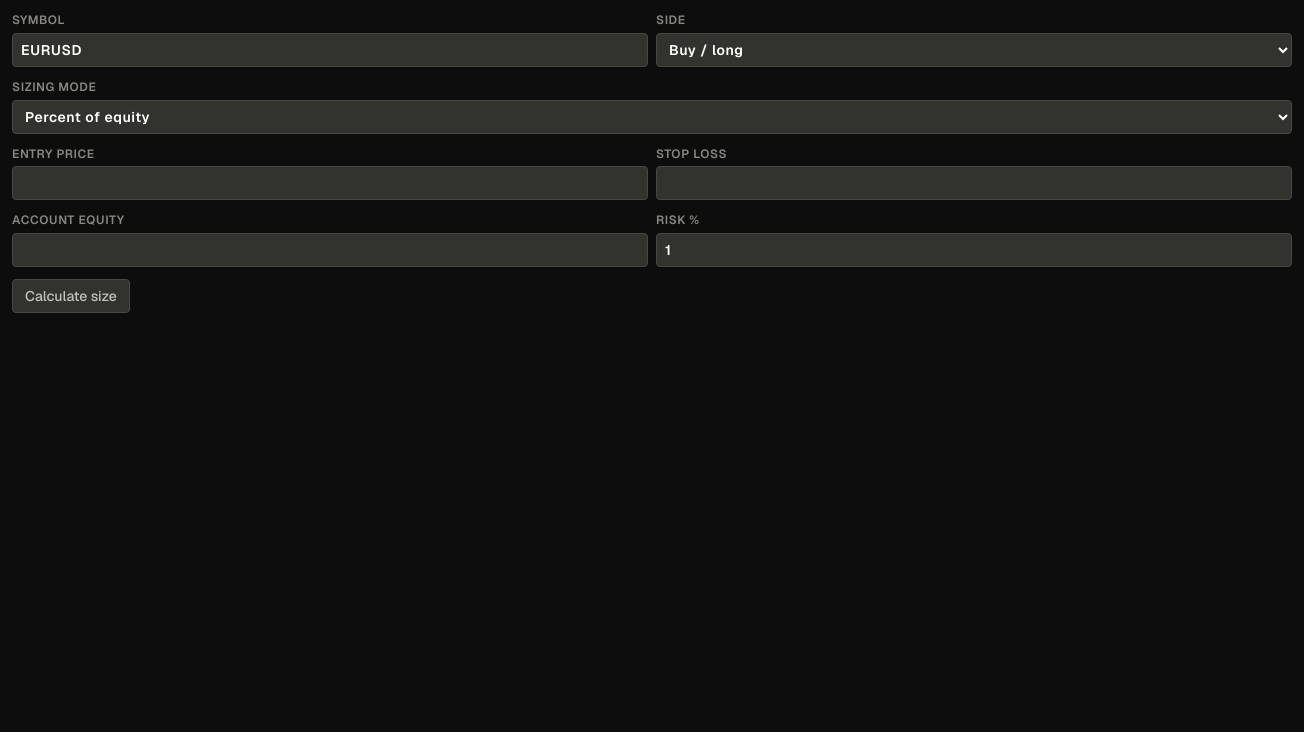
Test case: SizingCalculator › sends only the fields the chosen mode uses
Type "1.1" into the field labelled "Entry price".
click(330, 183); type("1.1")  # box [12,166,648,200]
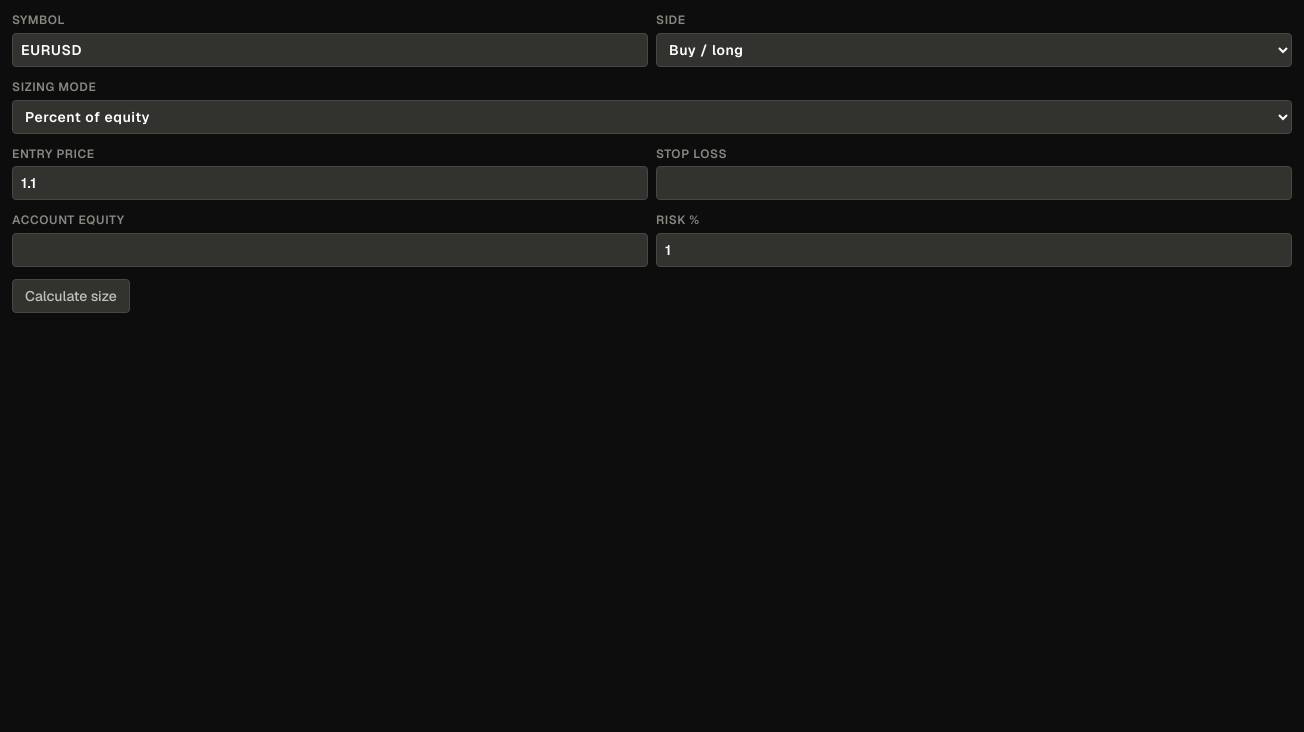
Type "10000" into the field labelled "Account equity".
click(330, 250); type("10000")  # box [12,233,648,267]
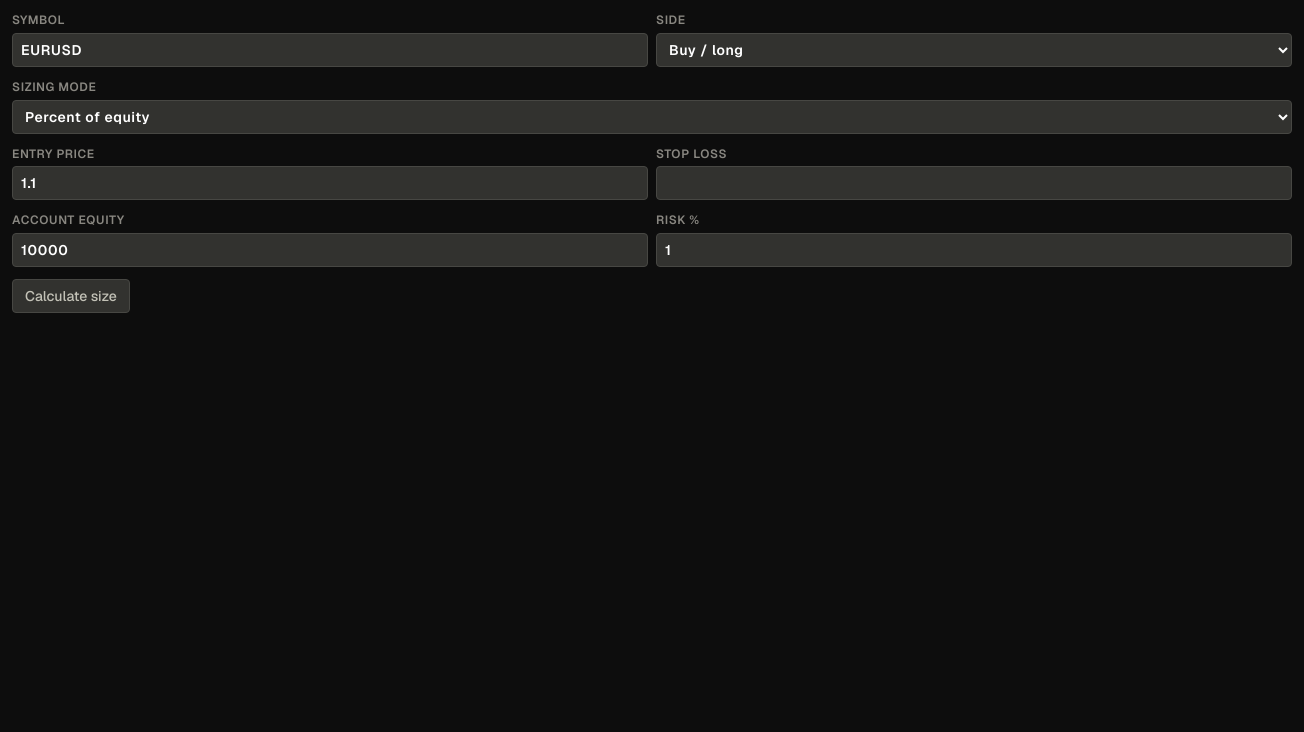
Click the button "Calculate size".
click(71, 296)  # box [12,279,130,313]
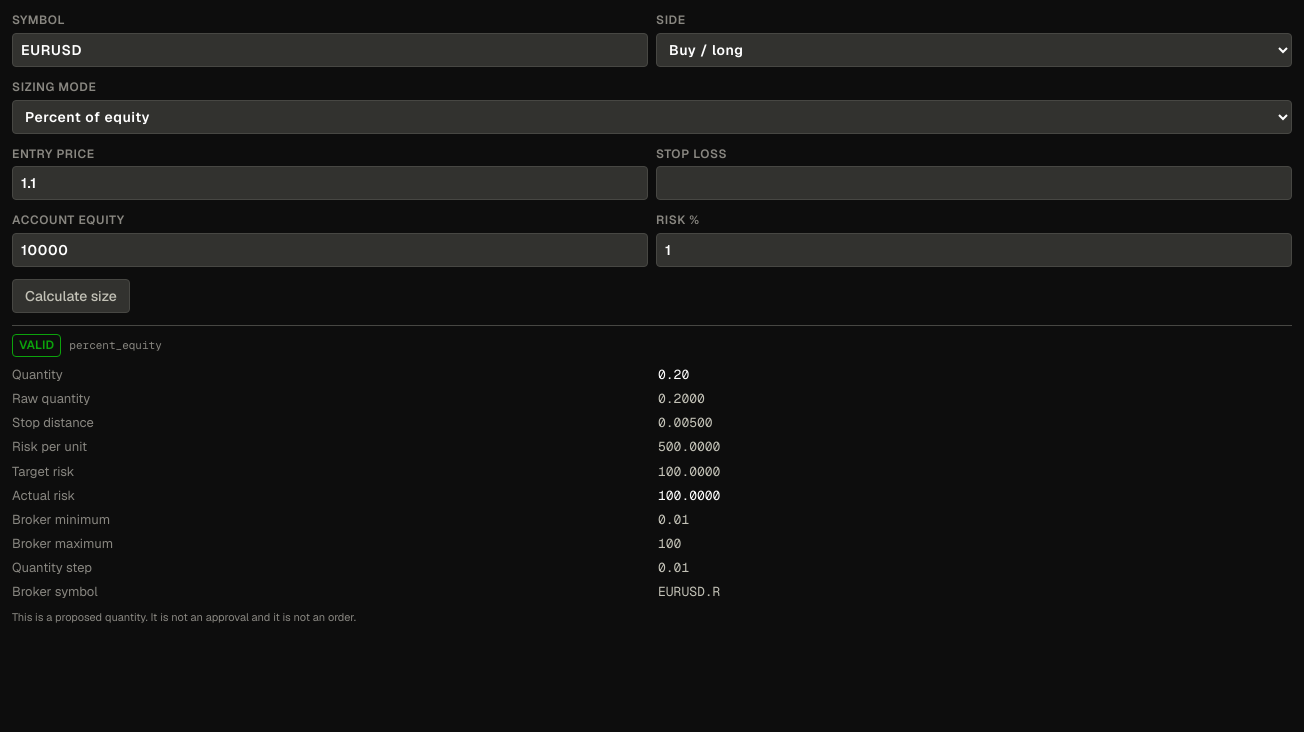
Check: the text "percent_equity" is shown, box [69,338,162,354]
